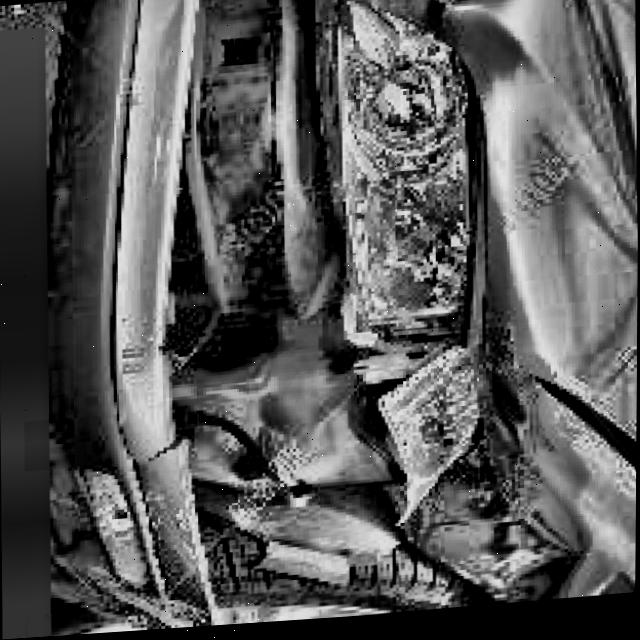head_lamp: (171, 0, 480, 443), (79, 470, 159, 583)
